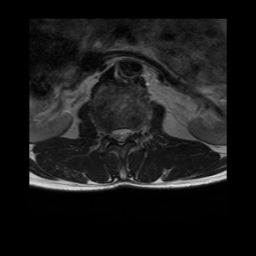CCS_normal: (117, 123, 124, 150)
LFS_stenosis: (131, 121, 138, 142)
LLS_normal: (124, 123, 131, 143)
RFS_stenosis: (103, 122, 111, 143)
RLS_normal: (111, 123, 117, 143)
